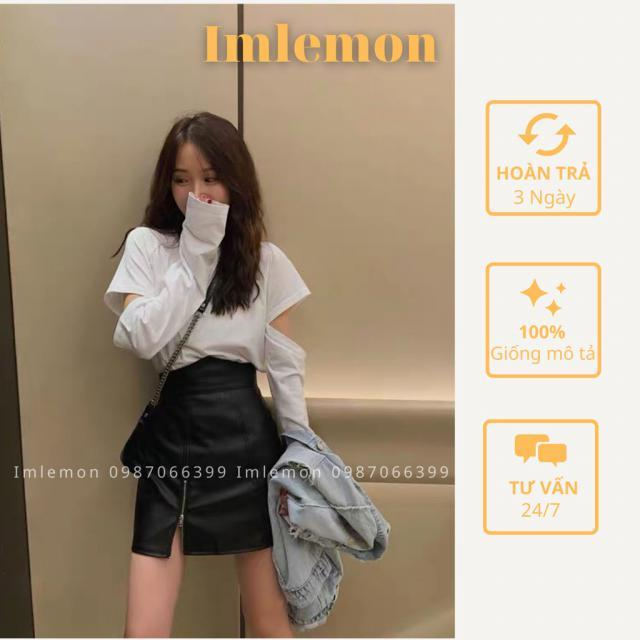Shirt: (99, 188, 318, 460)
